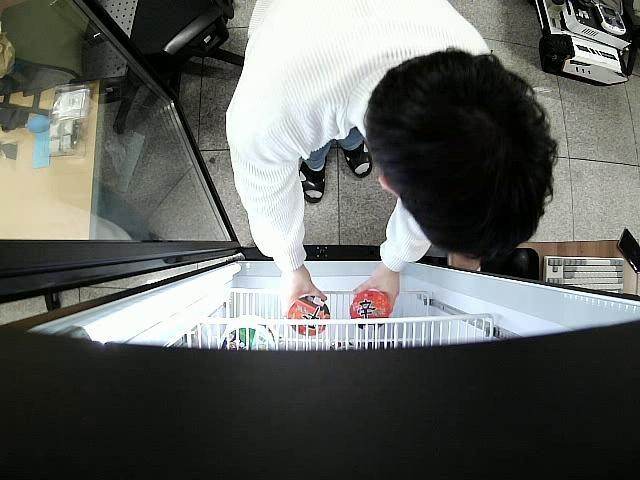02_shinRamen_S: (288, 294, 330, 335), (350, 290, 391, 328)
